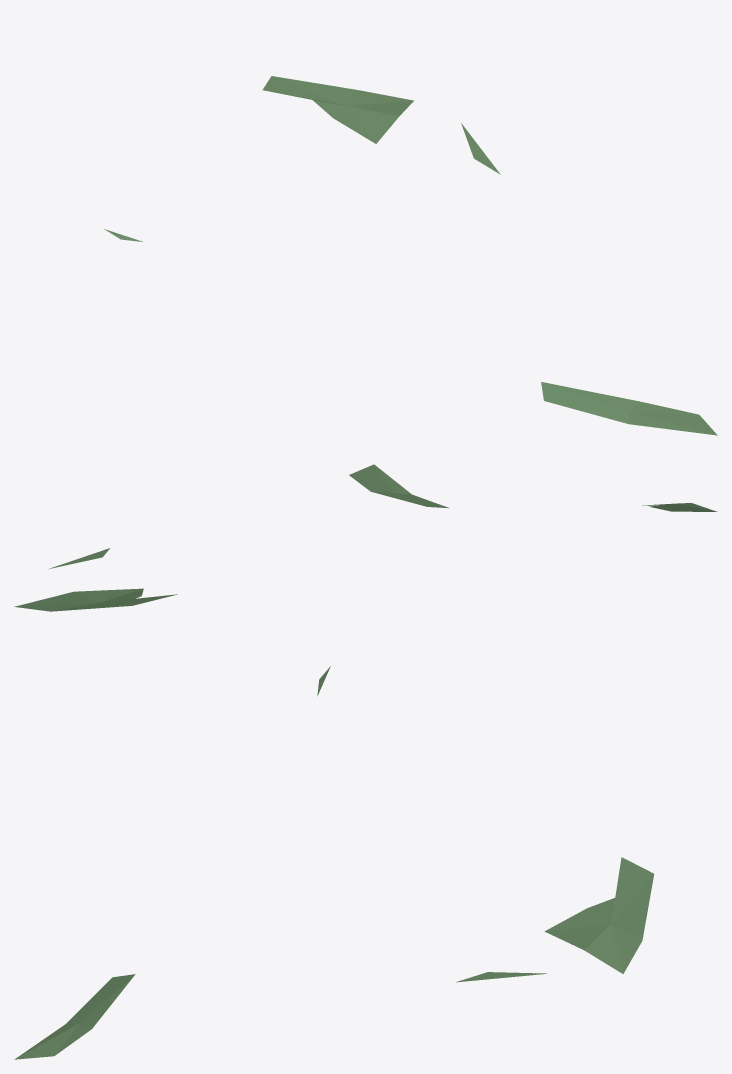
Rendered from c_1667_17817_forest.glb.
3 views of the same model, one above another, from view 1: azimuth 30°, elevation 25°; view 2: azimuth 150°, elevation 25°; view 3: azimuth 270°, elevation 25° (orthographic). The views are drawn at different scales.
Parts seen in each view (by area): view 1: geometry_0; view 2: geometry_0; view 3: geometry_0.
Part boxes in pixels (x1,y1,x2,y2): geometry_0: (104, 76, 717, 435); geometry_0: (14, 464, 717, 611); geometry_0: (14, 666, 654, 1059).
Size of the model in its own units: 240 by 96.4 by 277.
